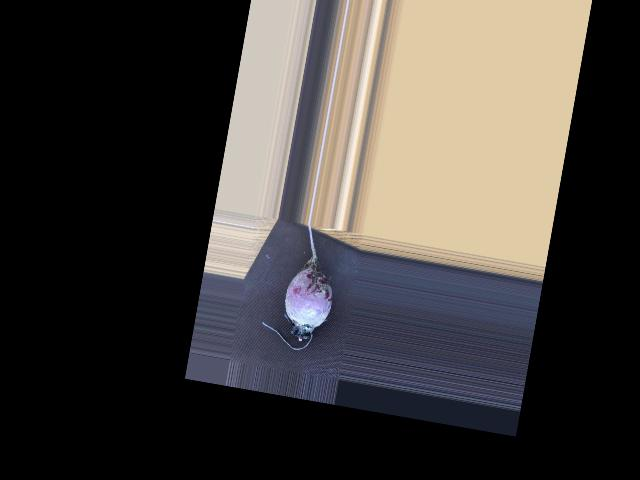beet: (258, 218, 345, 354)
